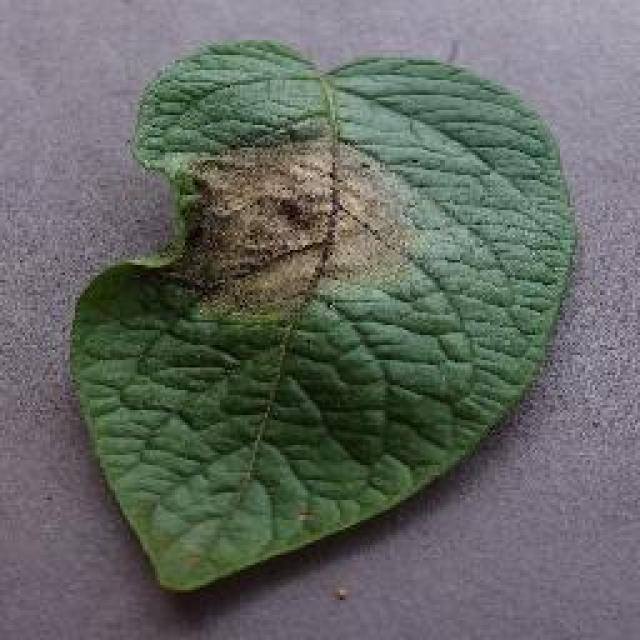Potato___Late_blight: (71, 34, 580, 598)
